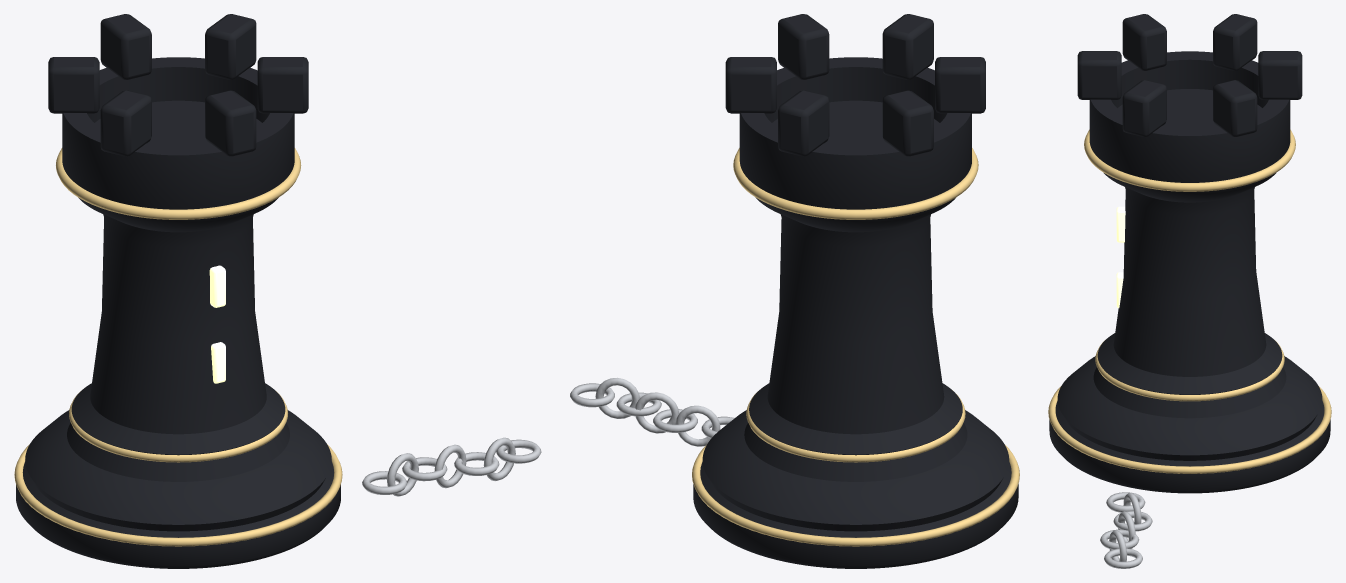
File: rook.glb
The picture shows the model from 3 angles, left to right: view 1: azimuth 30°, elevation 25°; view 2: azimuth 150°, elevation 25°; view 3: azimuth 270°, elevation 25°; orthographic projection. The views are drawn at different scales.
Parts seen in each view (by area): view 1: rook, band3, band1, merlon.002, merlon.005, merlon.003, merlon.004, merlon, merlon.001, band2, link, link.005 (+3 smaller); view 2: rook, band3, band1, merlon, merlon.001, merlon.002, merlon.005, merlon.004, merlon.003, band2, link.001, link.003 (+4 smaller); view 3: rook, band3, band1, merlon.001, merlon.004, merlon, merlon.005, merlon.002, merlon.003, band2, link.006, link (+2 smaller).
Boxes of the visible parts, x1,y1,x2,y2 form: rook: [16, 57, 340, 568]; band3: [14, 444, 342, 546]; band1: [56, 148, 301, 219]; merlon.002: [48, 57, 99, 113]; merlon.005: [257, 57, 308, 113]; merlon.003: [100, 90, 151, 156]; merlon.004: [205, 90, 256, 156]; merlon: [205, 14, 256, 79]; merlon.001: [100, 14, 151, 79]; band2: [69, 391, 287, 462]; link: [362, 471, 407, 494]; link.005: [483, 437, 515, 481]; rook: [693, 57, 1018, 568]; band3: [692, 445, 1019, 546]; band1: [733, 148, 978, 219]; merlon: [725, 57, 776, 113]; merlon.001: [778, 90, 829, 156]; merlon.002: [882, 90, 933, 156]; merlon.005: [778, 14, 829, 79]; merlon.004: [882, 14, 933, 79]; merlon.003: [935, 57, 985, 113]; band2: [746, 390, 965, 462]; link.001: [675, 405, 720, 446]; link.003: [635, 392, 678, 433]; rook: [1049, 51, 1330, 493]; band3: [1048, 386, 1331, 473]; band1: [1084, 129, 1295, 191]; merlon.001: [1258, 51, 1302, 99]; merlon.004: [1077, 51, 1121, 99]; merlon: [1213, 80, 1257, 136]; merlon.005: [1122, 80, 1166, 136]; merlon.002: [1213, 14, 1257, 70]; merlon.003: [1122, 14, 1166, 70]; band2: [1095, 340, 1284, 401]; link.006: [1104, 548, 1142, 568]; link: [1106, 492, 1145, 512].
Size of the model in its own units: 1.15 by 1.08 by 0.706.
